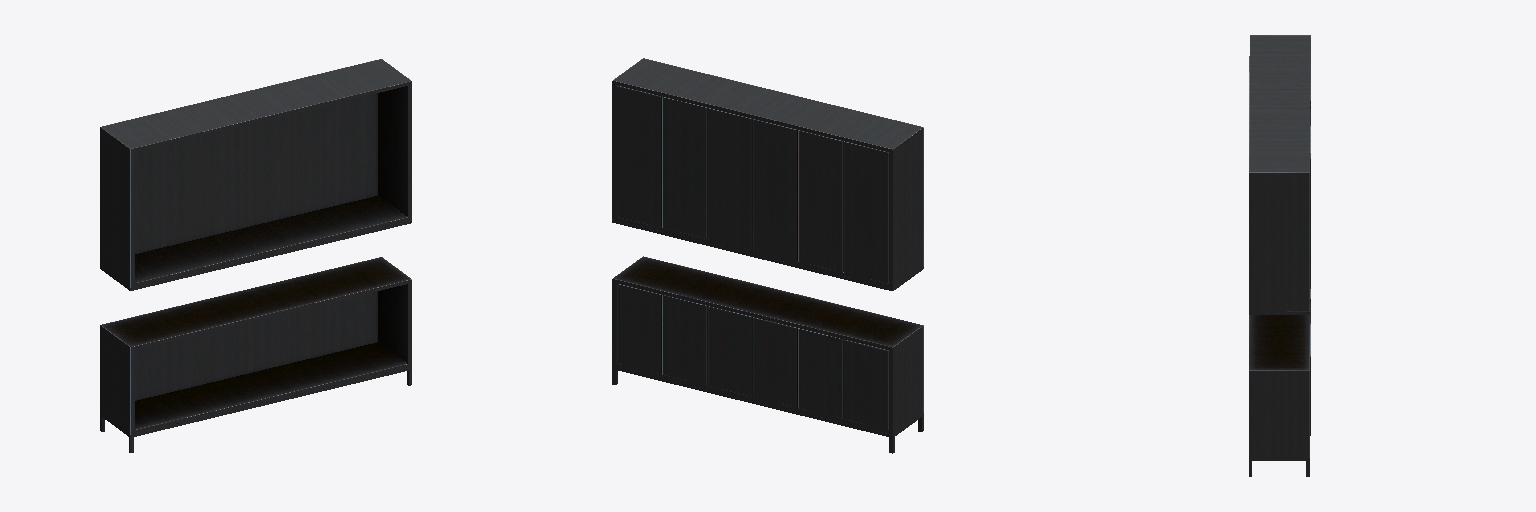
The picture shows the model from 3 angles: view 1: azimuth 30°, elevation 25°; view 2: azimuth 150°, elevation 25°; view 3: azimuth 270°, elevation 25°; orthographic projection.
Size of the model in its own units: 2.38 by 2.46 by 0.4616.
Materials: 1 (1 with a texture image).